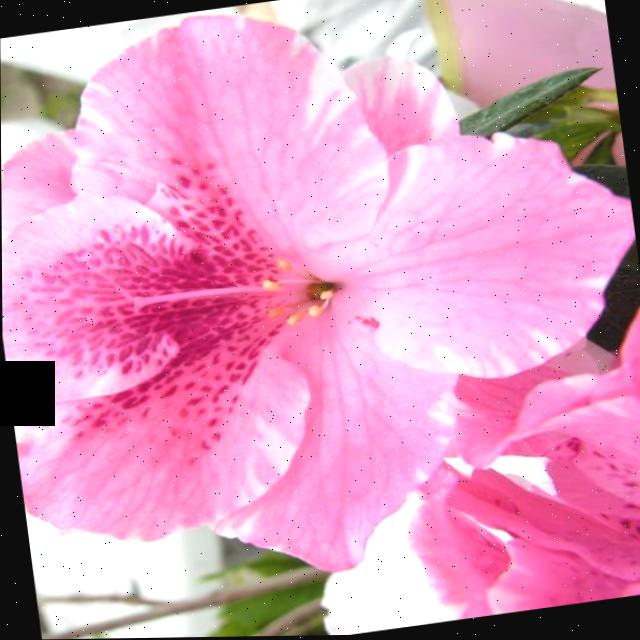azalea: (0, 0, 587, 530)
